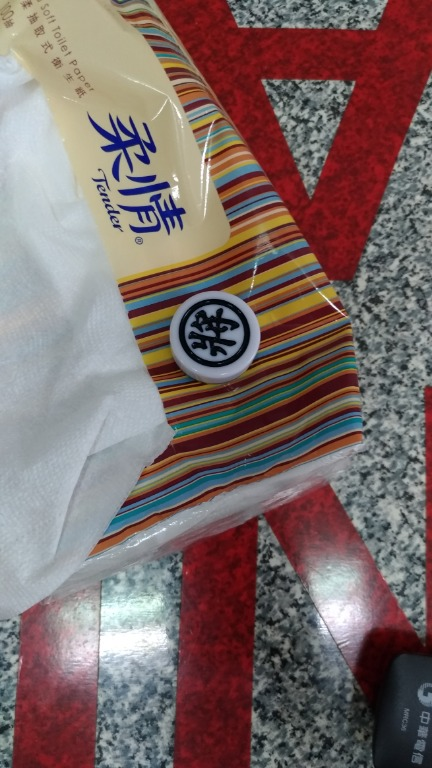b-king: (161, 282, 275, 385)
